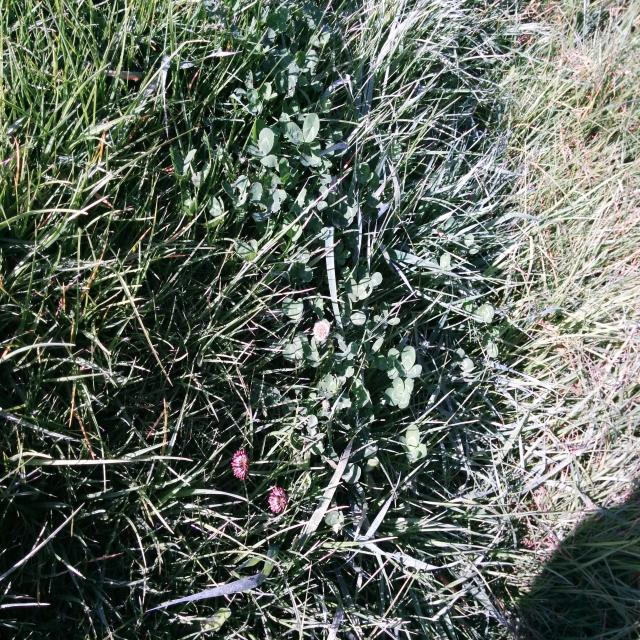Four Leaf Clover: (399, 424, 427, 461), (384, 376, 413, 408)
